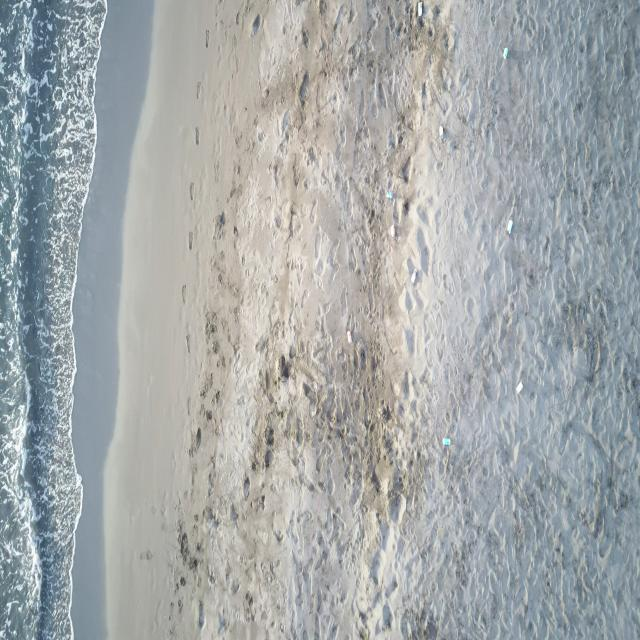tin-and-aluminum-cans: (516, 379, 524, 396), (410, 267, 418, 284), (506, 219, 514, 235), (390, 223, 396, 238), (439, 123, 444, 141), (418, 0, 423, 18), (347, 329, 352, 344), (442, 438, 451, 446), (386, 190, 393, 200), (503, 46, 508, 60)
